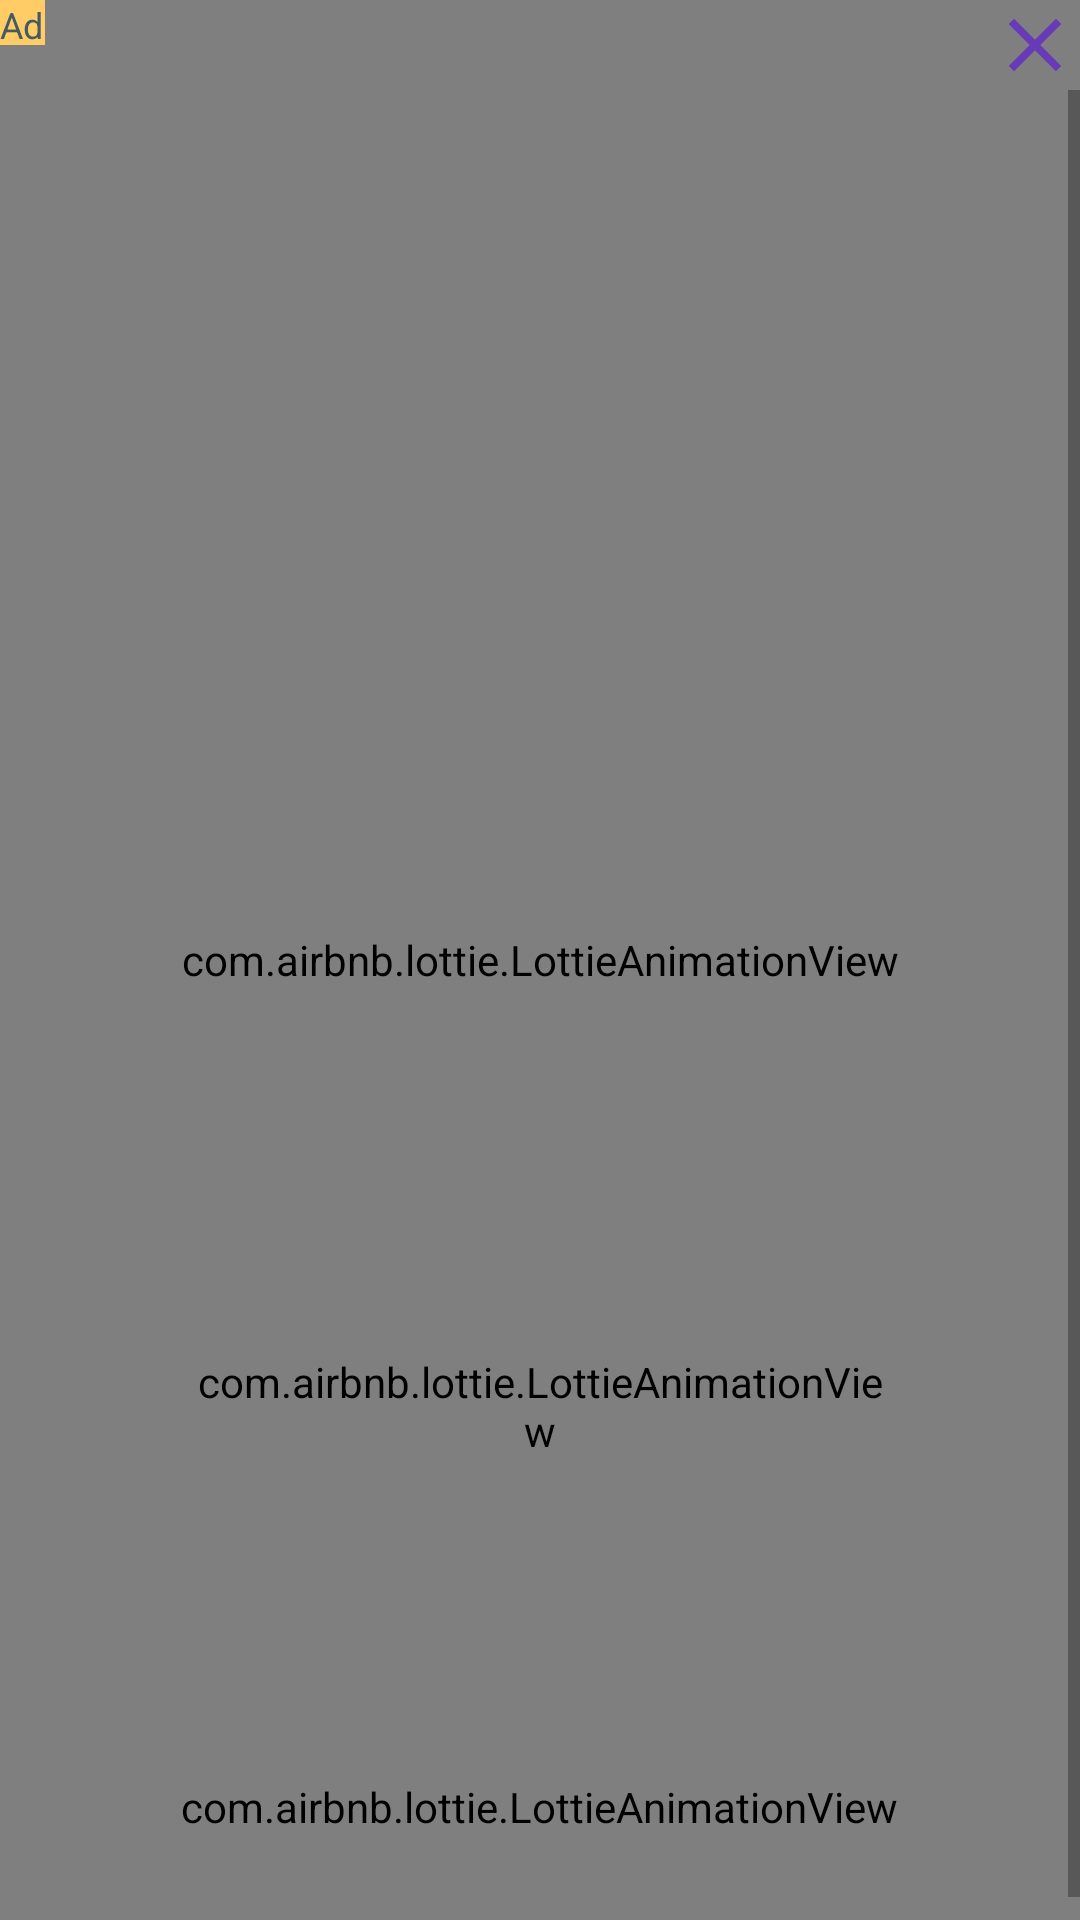

Named icons in this screenshot (1080*1920) and their centers, (x=x, y=y):
close: (x=1035, y=45)
